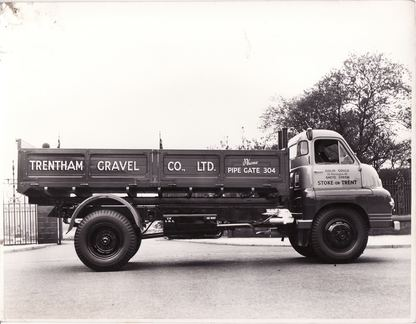truck: (18, 128, 399, 268)
